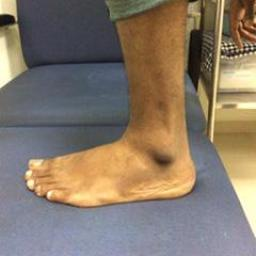Lateral View -Left Foot-: (18, 108, 203, 210)
